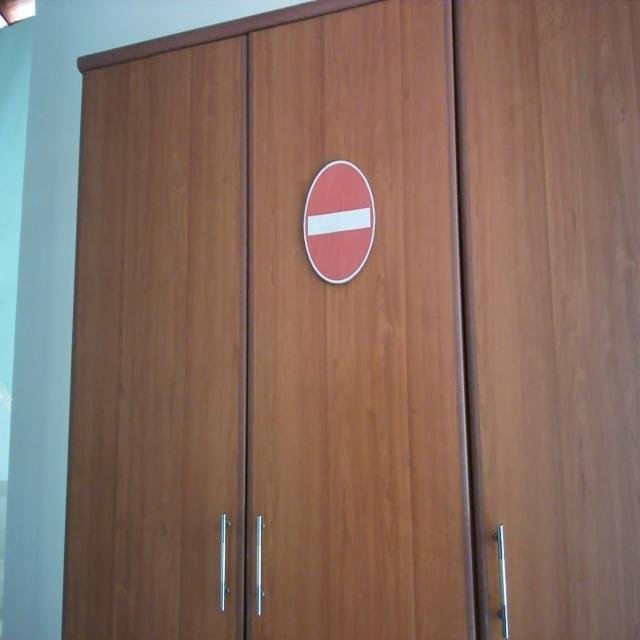no_entry: (302, 160, 378, 286)
